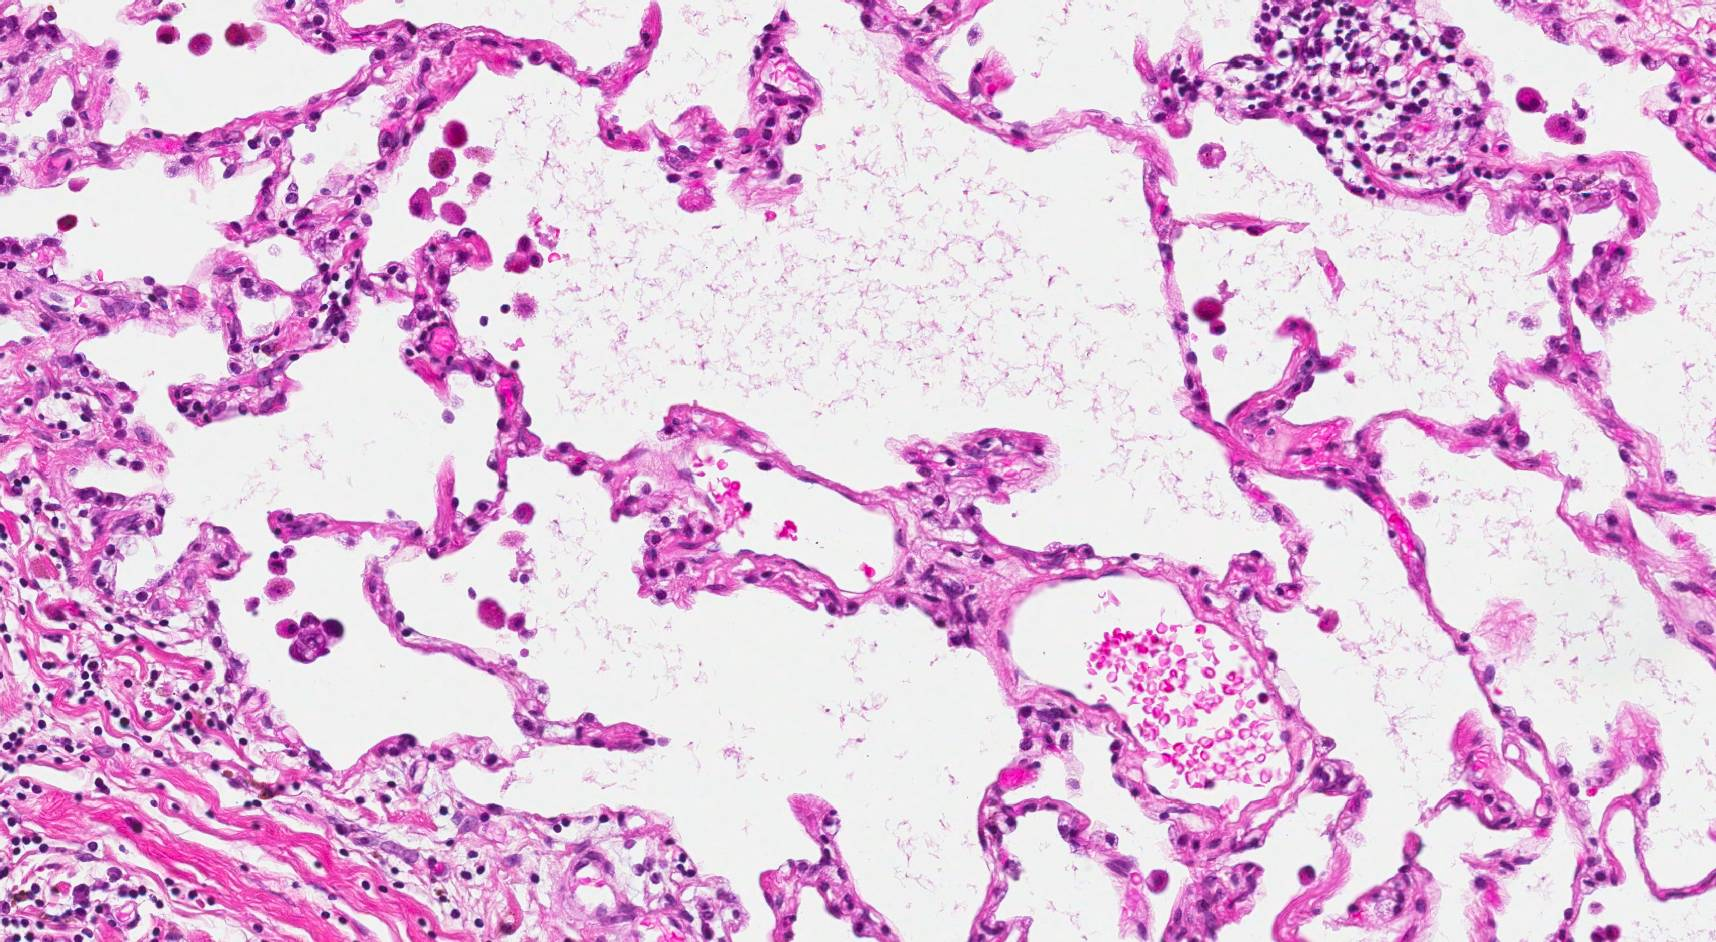stas: (278, 607, 343, 670)
